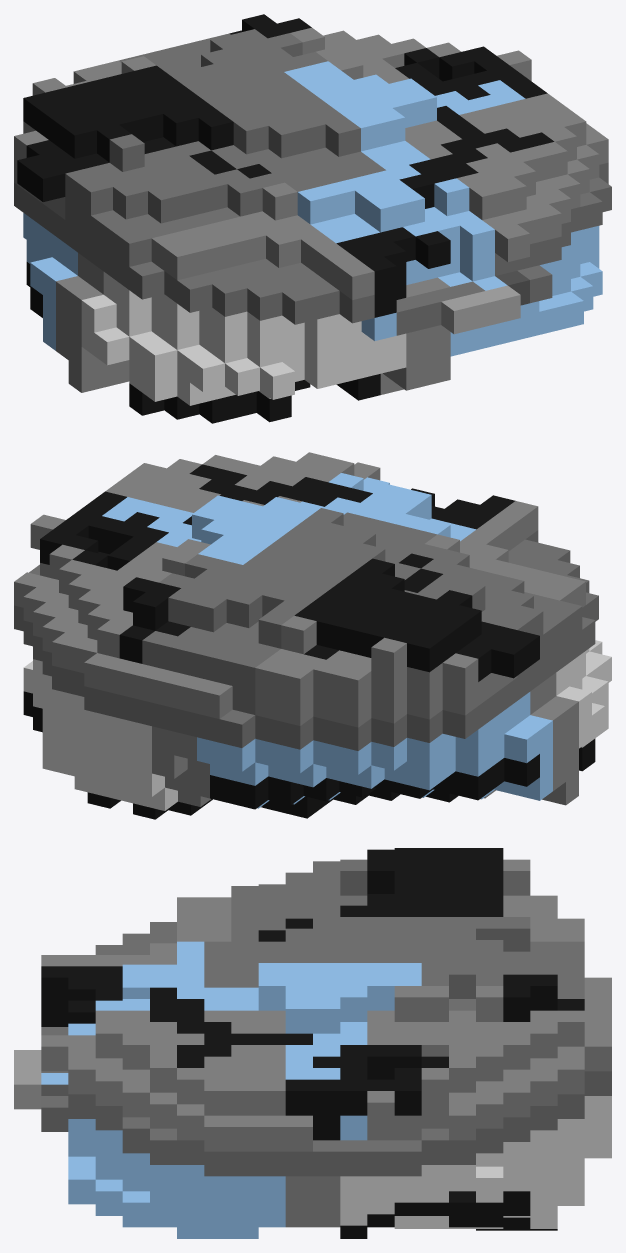
File: PowerModuleJunk3.obj
3 views of the same model, one above another, from view 1: azimuth 30°, elevation 25°; view 2: azimuth 150°, elevation 25°; view 3: azimuth 270°, elevation 25° (orthographic). The views are drawn at different scales.
Bounding box in the file's own units: 22 × 9 × 22.
Materials: 1 (1 with a texture image).
